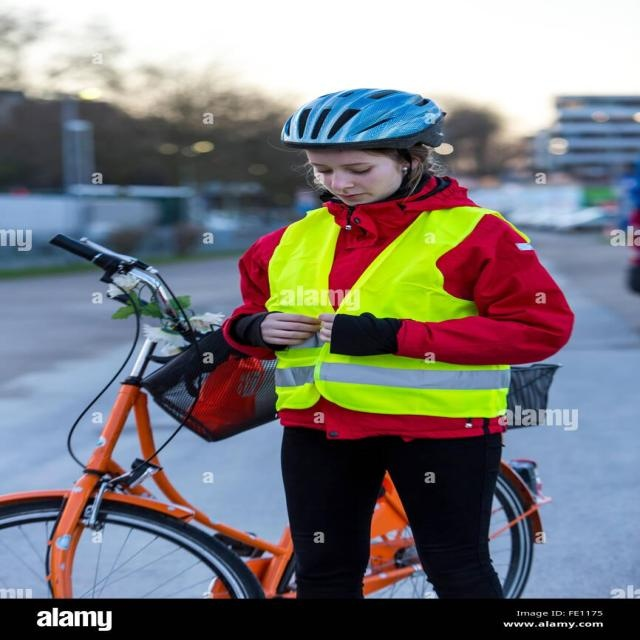Con_Chaleco: (264, 204, 509, 413)
